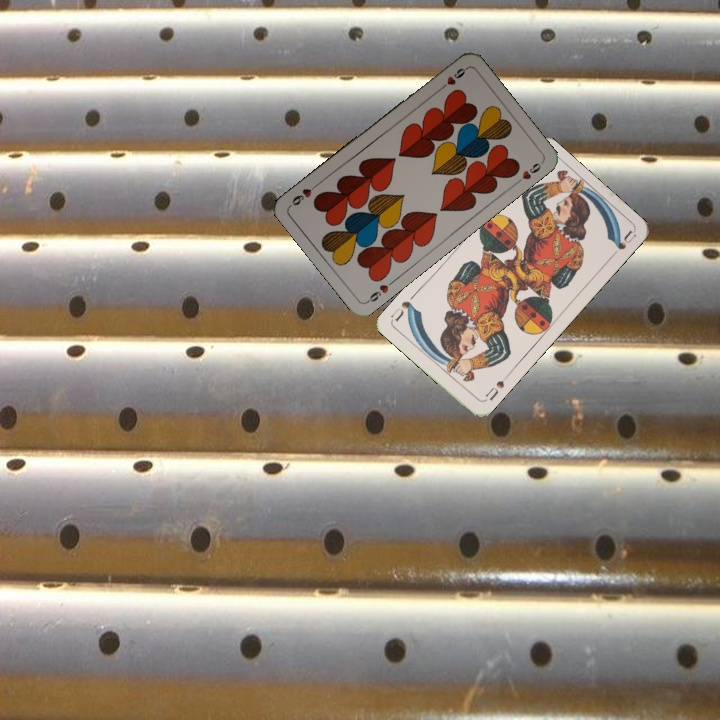H9: (435, 64, 470, 93), (363, 280, 391, 305)
SU: (480, 371, 511, 404)
